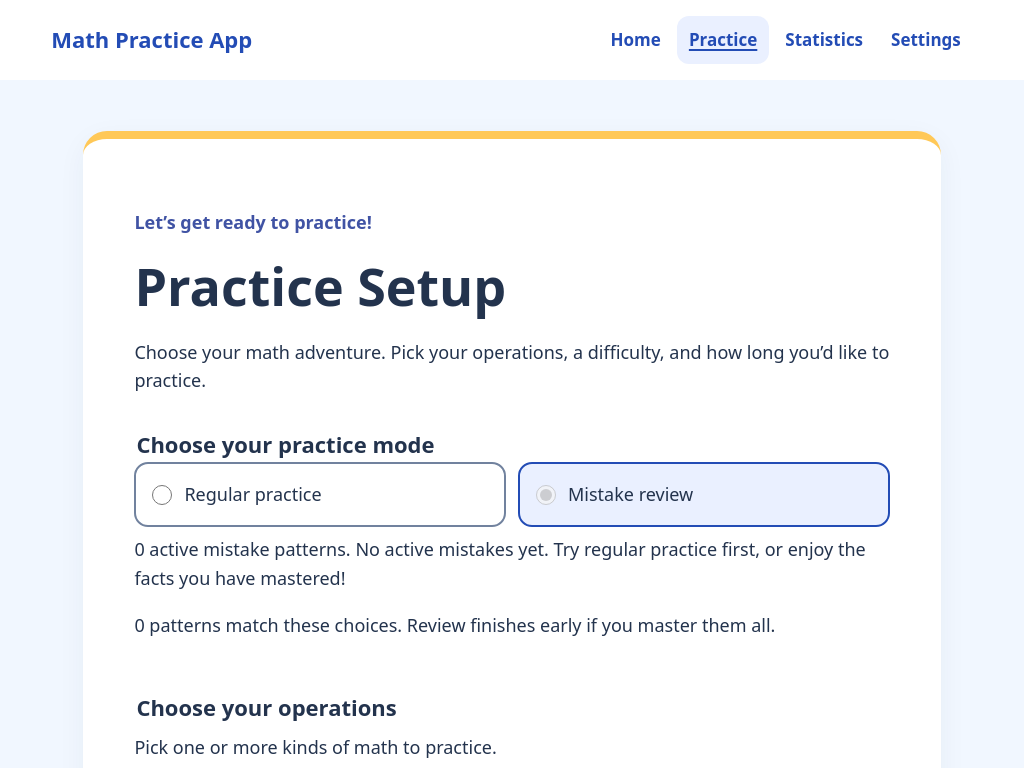
it: mistake-review interface › explains no active mistakes, prevents empty review, and permits regular practice
The width and height of the screenshot is (1024, 768).
Expected: the radio button labelled "Mistake review" is disabled, [536, 485, 556, 505]
Click the radio button labelled "Regular practice" at (162, 495), box [152, 485, 172, 505]
(page scrolled)
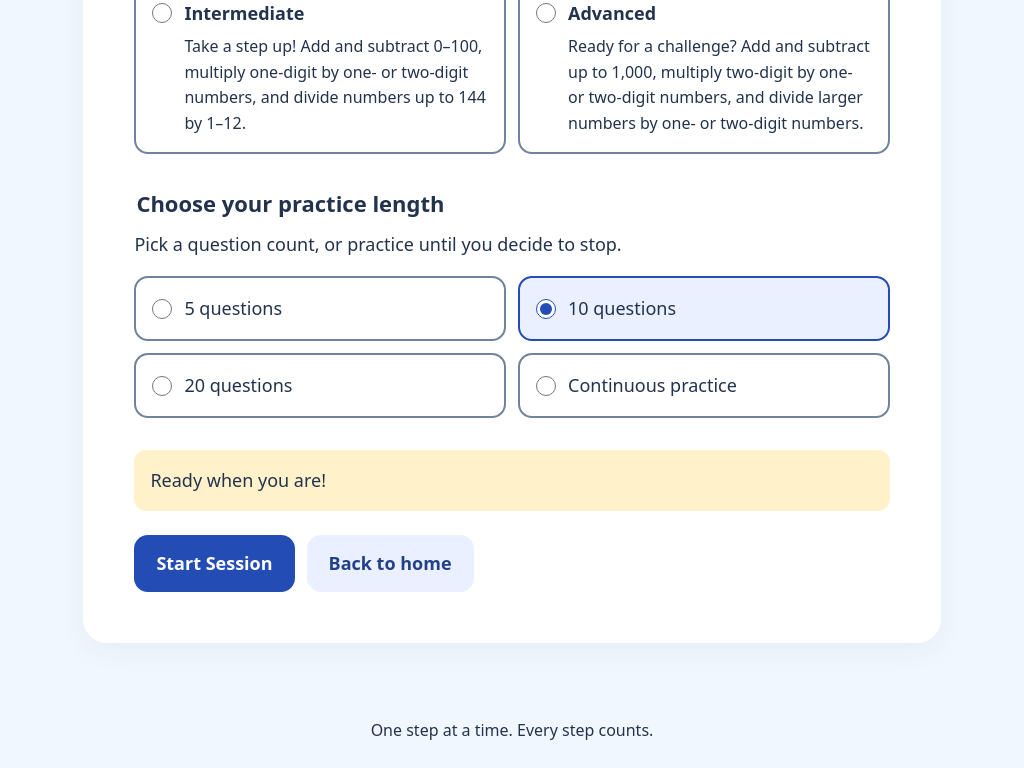
Expected: the button "Start Session" is enabled, [134, 535, 295, 592]
